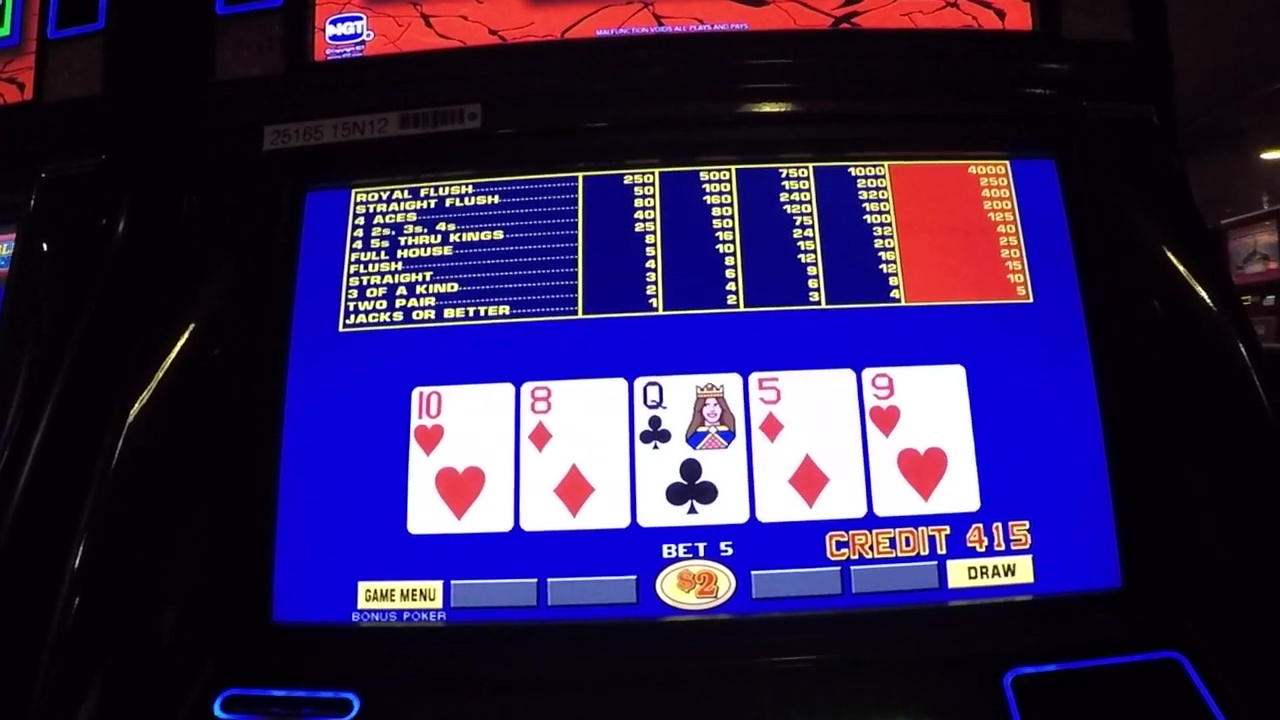CQ: (638, 377, 744, 456)
D5: (752, 374, 856, 451)
D8: (521, 380, 627, 464)
H9: (864, 372, 965, 442)
ht: (413, 387, 516, 465)
